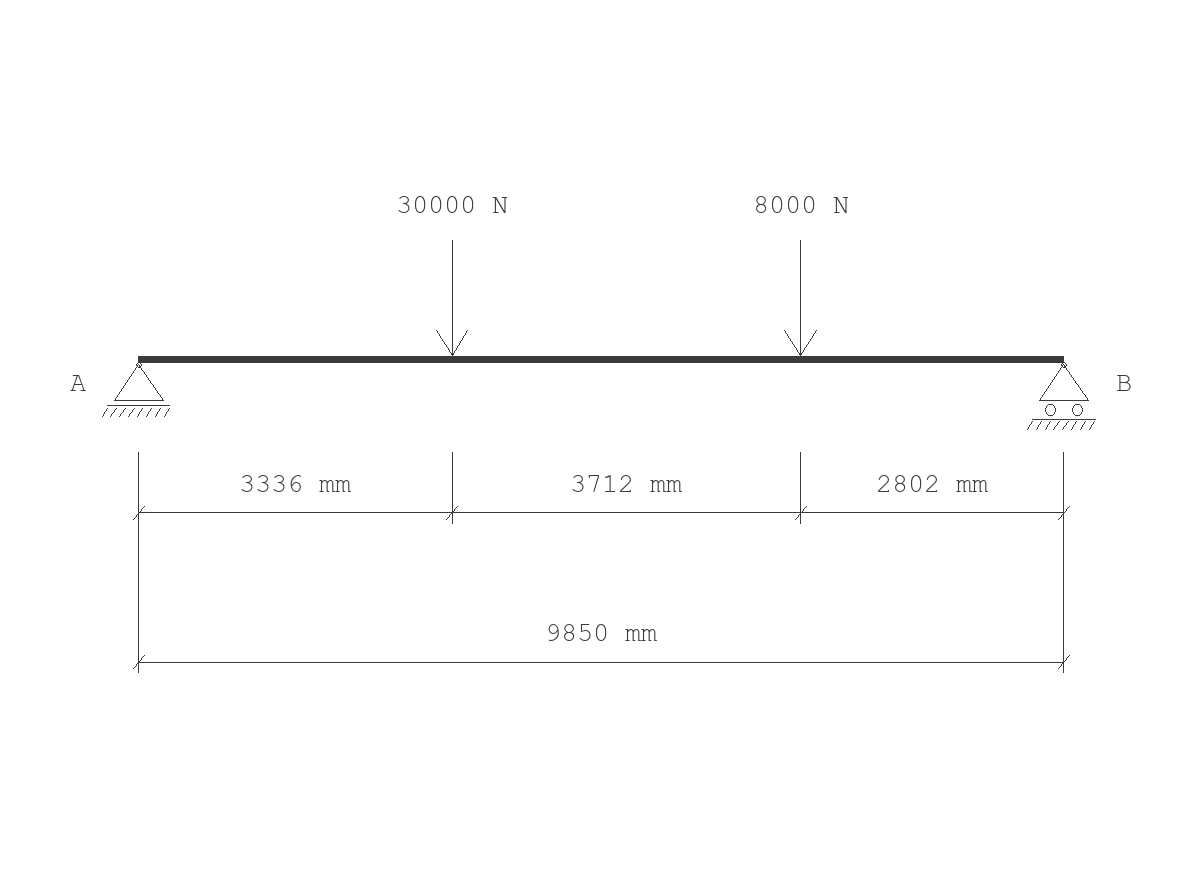pin_support: (102, 362, 170, 417)
point_load: (784, 240, 817, 356), (436, 240, 468, 356)
roller_support: (1027, 362, 1096, 430)
